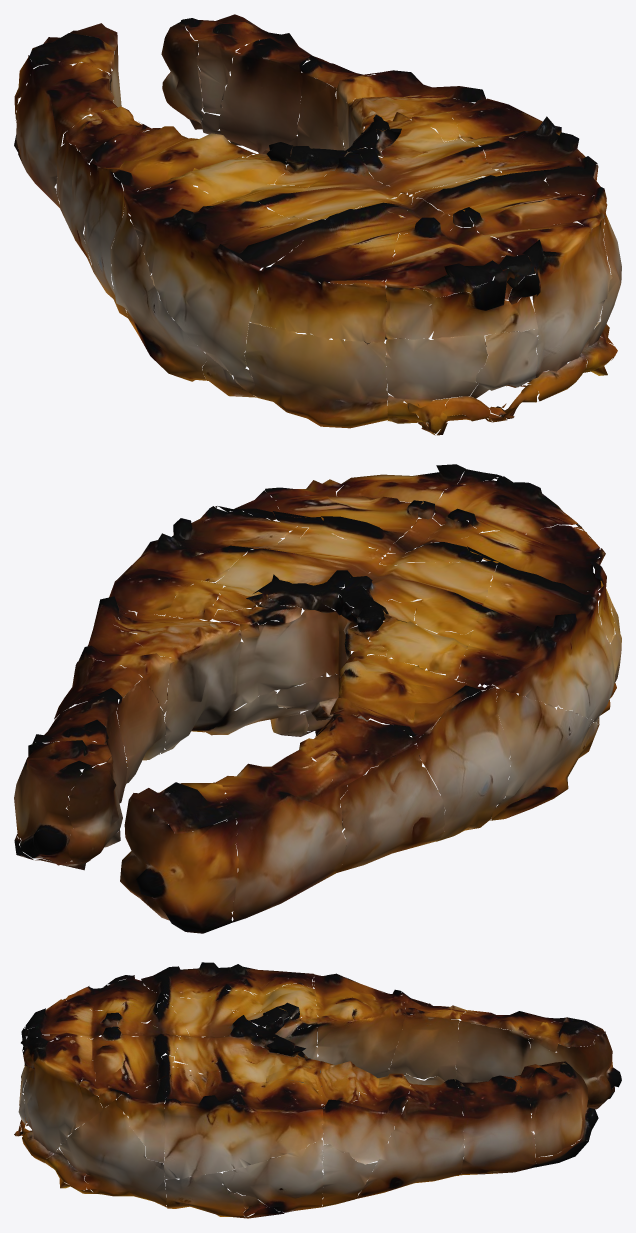
File: cooked_fish_prime.glb
3 views of the same model, one above another, from view 1: azimuth 30°, elevation 25°; view 2: azimuth 150°, elevation 25°; view 3: azimuth 270°, elevation 25° (orthographic). The views are drawn at different scales.
Parts seen in each view (by area): view 1: tripo_node_d99fe9be-d07e-40bf-bda2-0cb97ff3ff4e; view 2: tripo_node_d99fe9be-d07e-40bf-bda2-0cb97ff3ff4e; view 3: tripo_node_d99fe9be-d07e-40bf-bda2-0cb97ff3ff4e.
Boxes of the visible parts, left/top/right/bottom form: tripo_node_d99fe9be-d07e-40bf-bda2-0cb97ff3ff4e: left=14, top=14, right=621, bottom=435; tripo_node_d99fe9be-d07e-40bf-bda2-0cb97ff3ff4e: left=14, top=464, right=621, bottom=933; tripo_node_d99fe9be-d07e-40bf-bda2-0cb97ff3ff4e: left=14, top=962, right=621, bottom=1218.
Size of the model in its own units: 0.5934 by 0.2435 by 1.
Materials: 1 (1 with a texture image).
